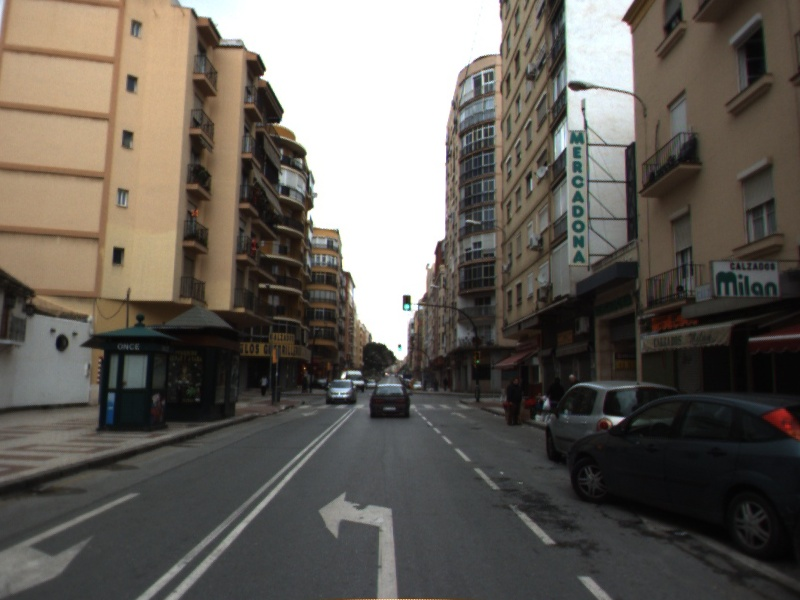LEFT: (317, 489, 399, 600)
